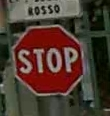stop: (12, 22, 87, 96)
